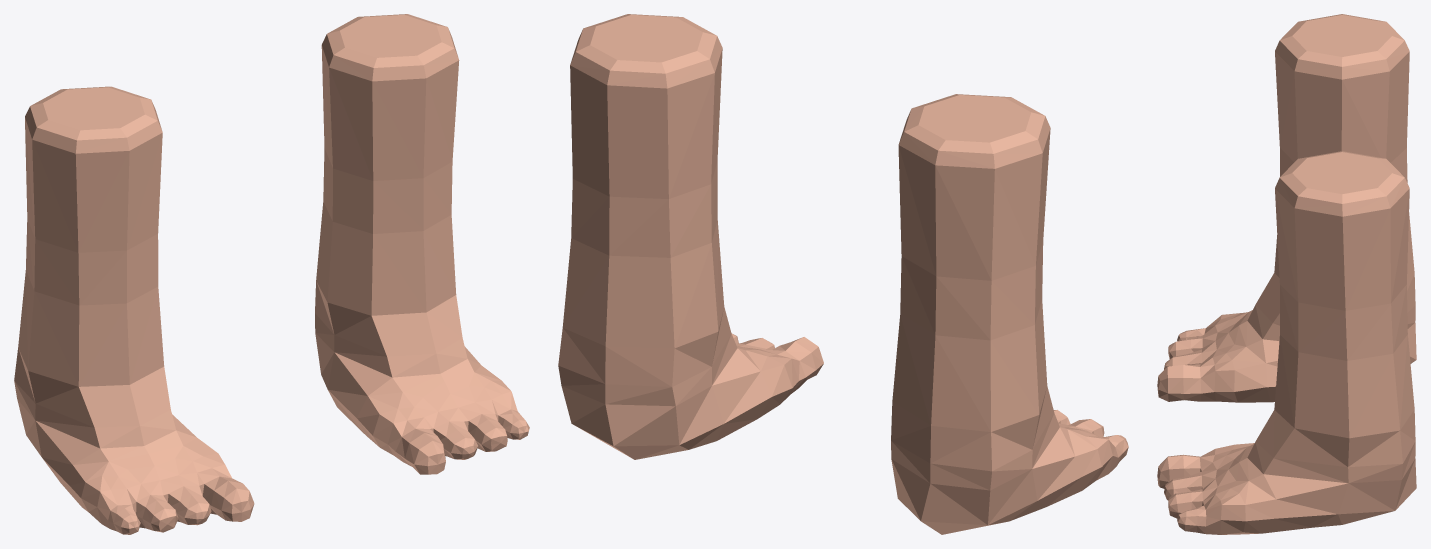
Rendered from legs.fbx.
3 views of the same model, side by side, from view 1: azimuth 30°, elevation 25°; view 2: azimuth 150°, elevation 25°; view 3: azimuth 270°, elevation 25° (orthographic). The views are drawn at different scales.
Visible parts, largest first — view 1: Foot; view 2: Foot; view 3: Foot.
Part boxes in pixels (left/top/right/bottom): Foot: left=14, top=14, right=529, bottom=534; Foot: left=558, top=14, right=1128, bottom=534; Foot: left=1157, top=14, right=1416, bottom=534.
Bounding box in the file's own units: 1.93 × 1.59 × 1.08.
